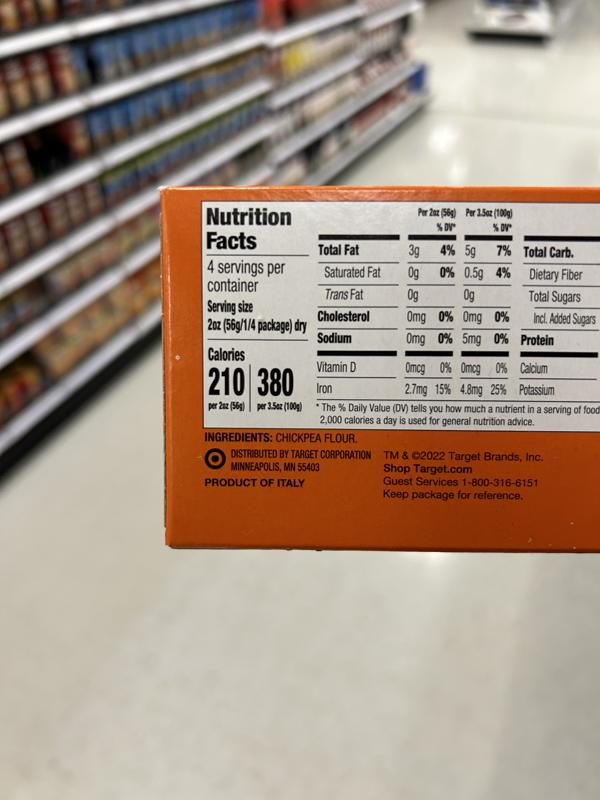ingredients: (202, 430, 359, 446)
